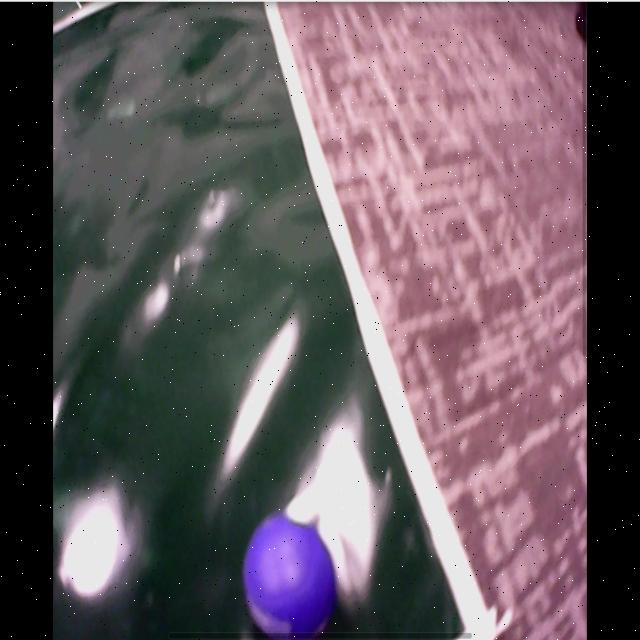ball: (244, 515, 338, 640)
